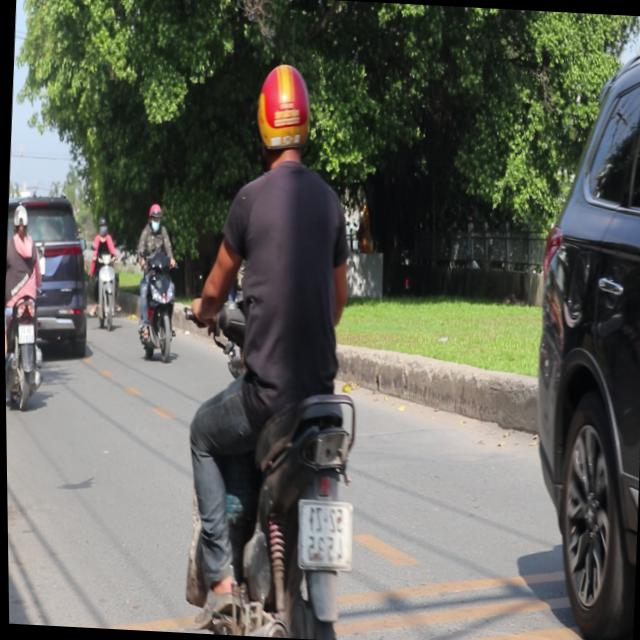helmet: (253, 61, 317, 170), (148, 202, 164, 232)
licenseplate: (166, 53, 389, 640), (131, 200, 184, 362)
nohelmet: (296, 500, 352, 571)
